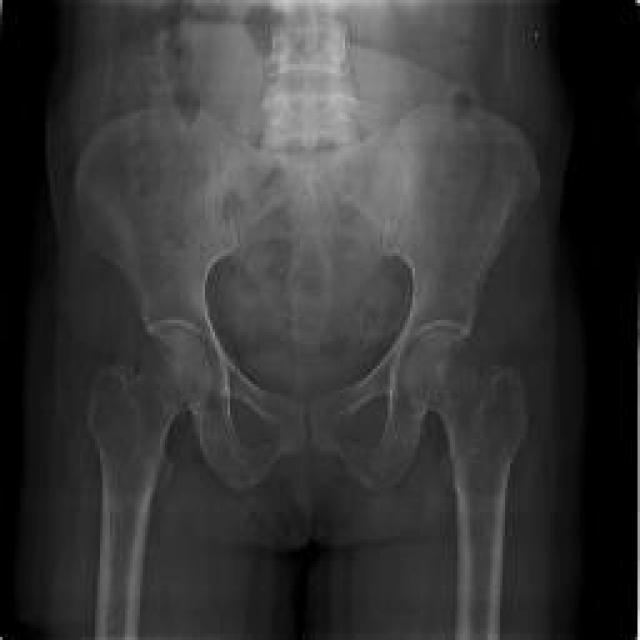normal: (78, 9, 539, 636)
